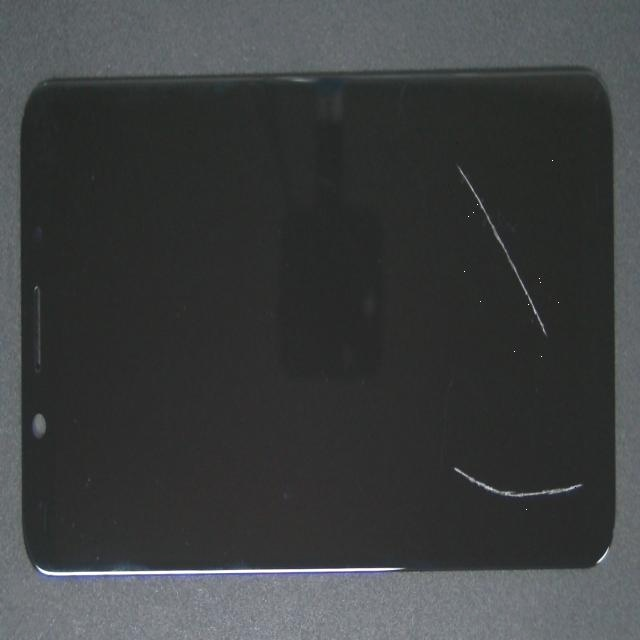scratch: (147, 233, 640, 640), (170, 0, 640, 355)
